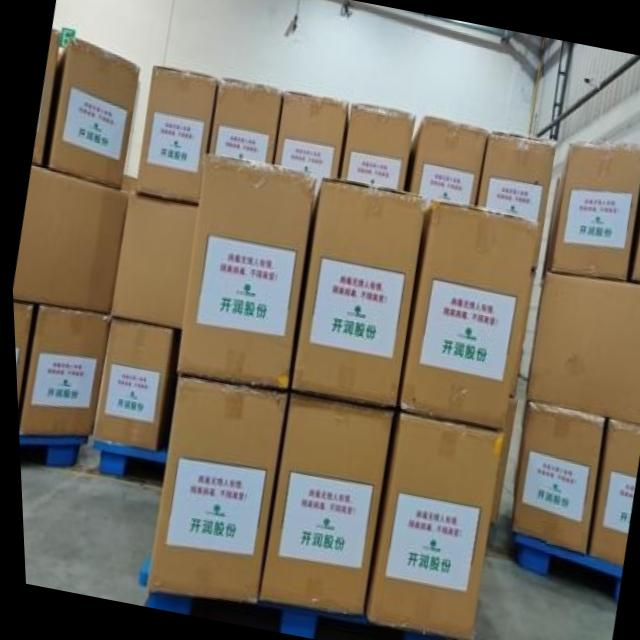box: (175, 154, 314, 392), (394, 200, 537, 429), (141, 375, 284, 602), (360, 412, 499, 640), (288, 182, 422, 405), (254, 393, 389, 614), (522, 274, 640, 427), (10, 166, 126, 315), (45, 38, 140, 190), (507, 399, 600, 554), (106, 183, 194, 331), (546, 144, 640, 280), (88, 316, 176, 450), (15, 307, 107, 435), (133, 65, 216, 206), (475, 130, 555, 271), (271, 89, 348, 213), (582, 418, 639, 564), (403, 116, 488, 207), (206, 76, 282, 164), (338, 105, 414, 190), (30, 29, 62, 163), (11, 301, 35, 409), (623, 175, 640, 283)
